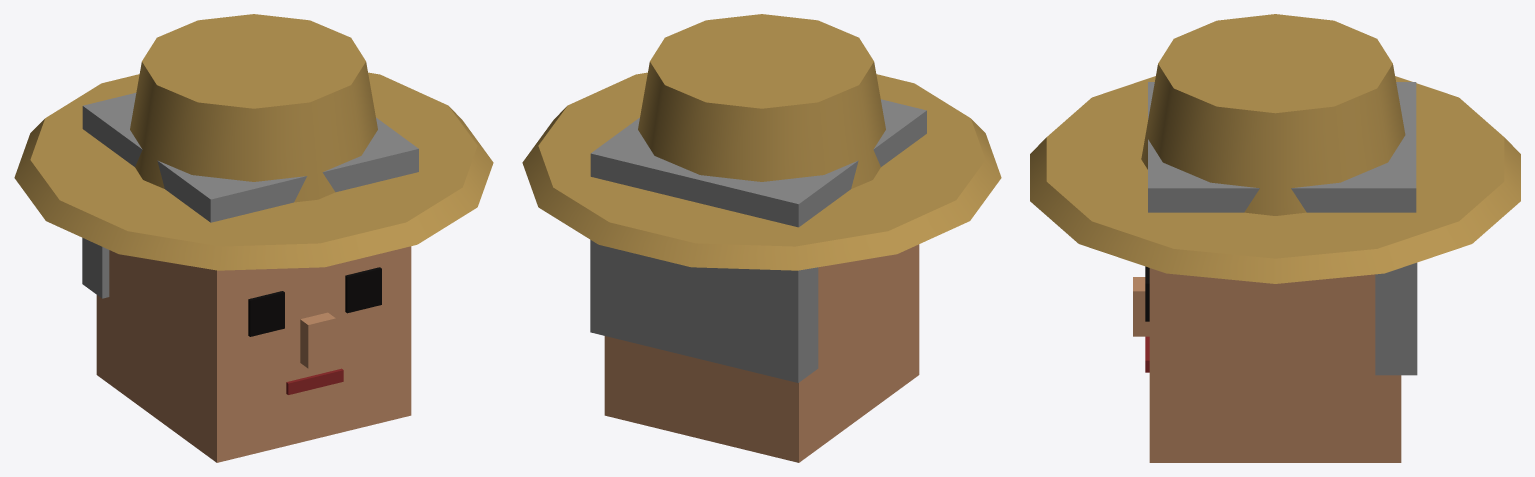
Rendered from PRezo_Cabeza.obj.
3 views of the same model, side by side, from view 1: azimuth 30°, elevation 25°; view 2: azimuth 150°, elevation 25°; view 3: azimuth 270°, elevation 25° (orthographic). The views are drawn at different scales.
Visible parts, largest first — view 1: Cabeza; view 2: Cabeza; view 3: Cabeza.
Boxes of the visible parts, x1,y1,x2,y2 form: Cabeza: (14,14,493,462); Cabeza: (522,14,1001,462); Cabeza: (1030,14,1520,462).
Bounding box in the file's own units: 0.3 × 0.23 × 0.2925.
1 material, 1 textured.
